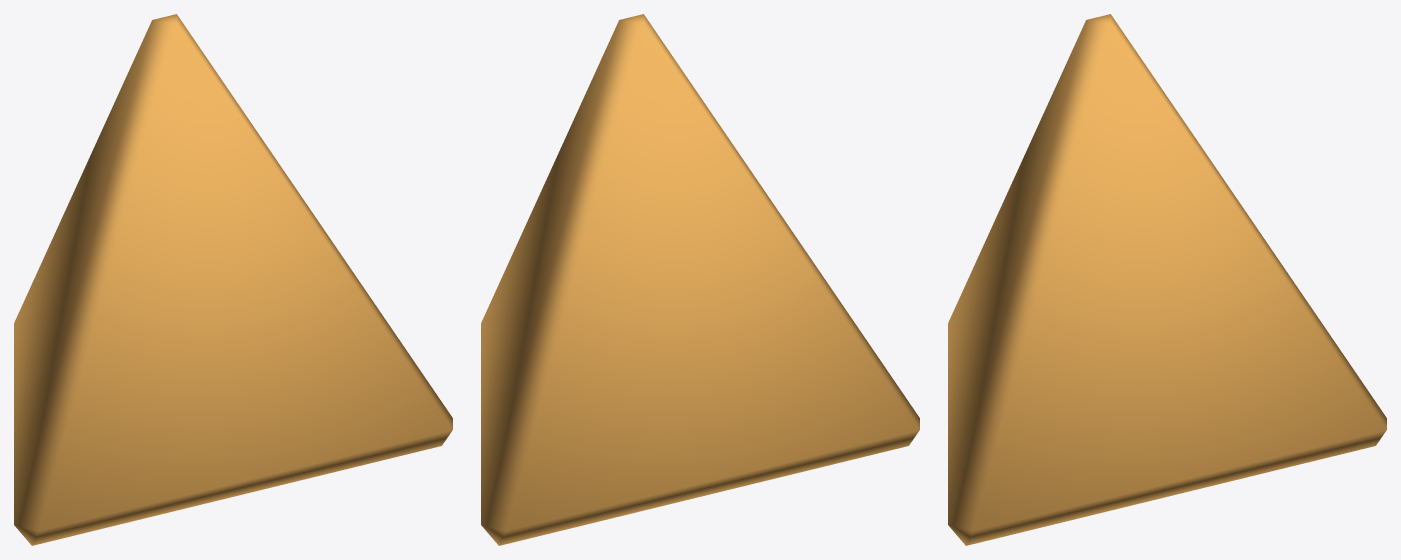
3 renders of one model, left to right at view 1: azimuth 30°, elevation 25°; view 2: azimuth 150°, elevation 25°; view 3: azimuth 270°, elevation 25°, orthographic.
Visible parts, largest first — view 1: Pyramid_3P; view 2: Pyramid_3P; view 3: Pyramid_3P.
Boxes of the visible parts, left/top/right/bottom form: Pyramid_3P: left=14, top=14, right=452, bottom=545; Pyramid_3P: left=481, top=14, right=919, bottom=545; Pyramid_3P: left=948, top=14, right=1386, bottom=545.
Bounding box in the file's own units: 300 × 279 × 260.
